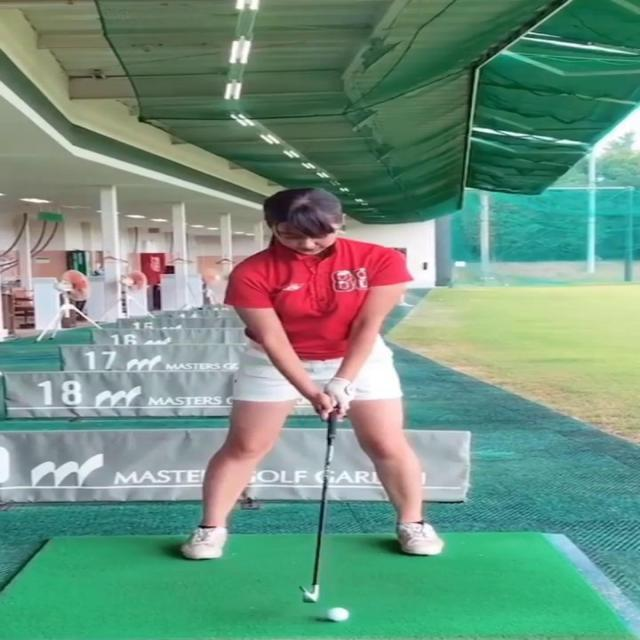ClubHandle: (289, 400, 349, 604)
ClubHead: (299, 586, 327, 605)
GolfBall: (325, 609, 348, 626)
